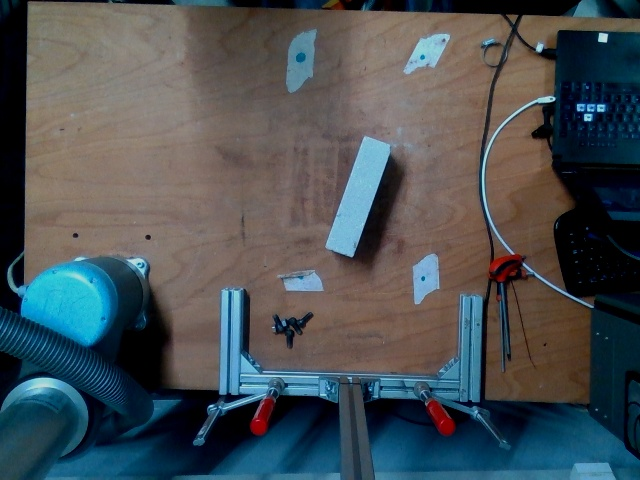brick-side: (325, 136, 390, 257)
